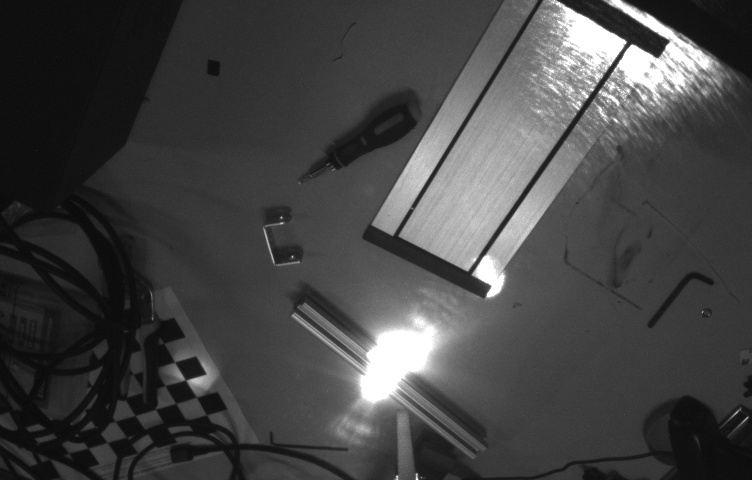Object - extruded aluminum profile - Material metal - Pdfname IJiB5jbMhrV7: (352, 334, 411, 404)
